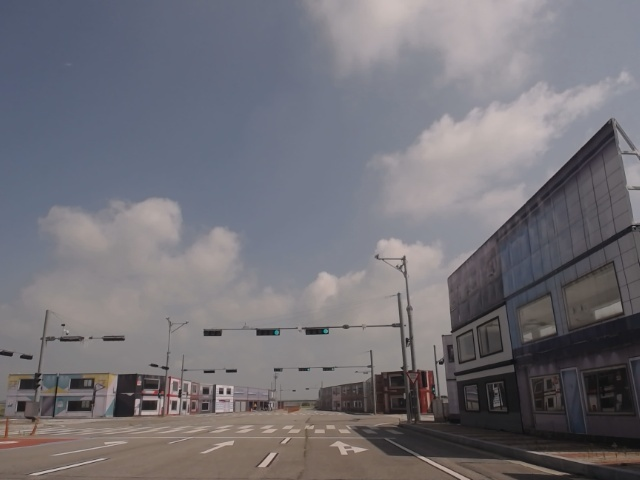straight_green_4: (256, 328, 281, 337), (306, 327, 331, 336)
